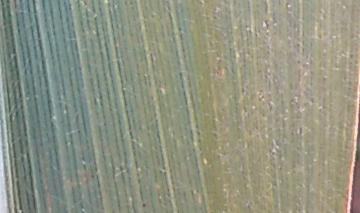tarspot: (262, 18, 271, 30), (297, 125, 303, 136), (141, 201, 147, 209), (348, 52, 353, 58)
